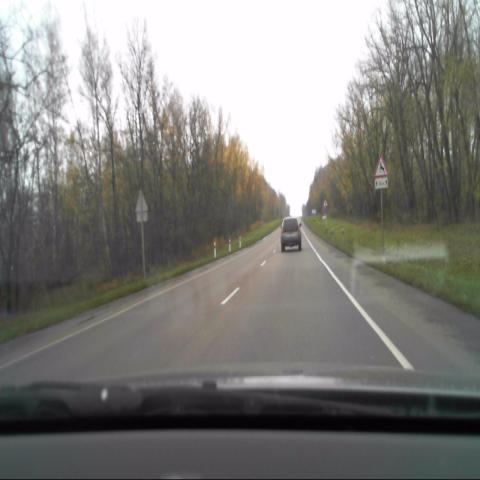1_27: (374, 155, 386, 177)
